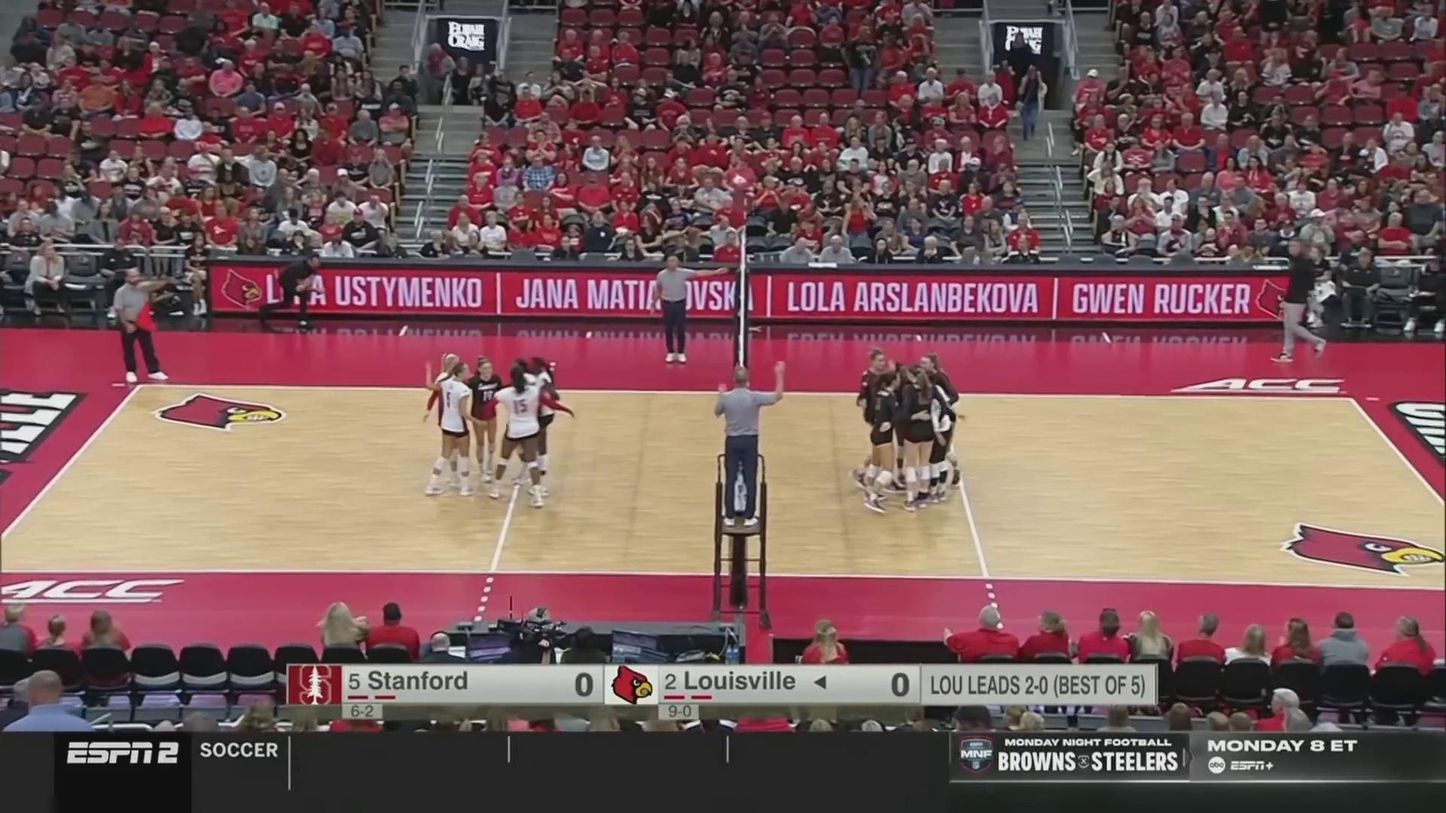player: (489, 369, 556, 508), (422, 359, 477, 498), (897, 366, 943, 510), (852, 347, 898, 485), (924, 351, 965, 490), (465, 355, 509, 480), (865, 369, 902, 511), (525, 358, 563, 485)
refree: (714, 360, 784, 523), (652, 256, 725, 361), (114, 270, 168, 382)
